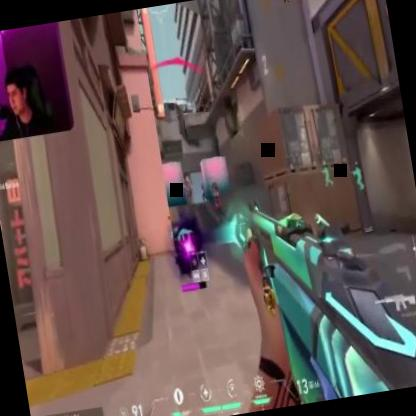enemy: (209, 180, 224, 216), (181, 172, 196, 206), (199, 180, 209, 204)
enemy_head: (211, 181, 219, 193), (200, 181, 206, 189), (185, 172, 190, 180)
